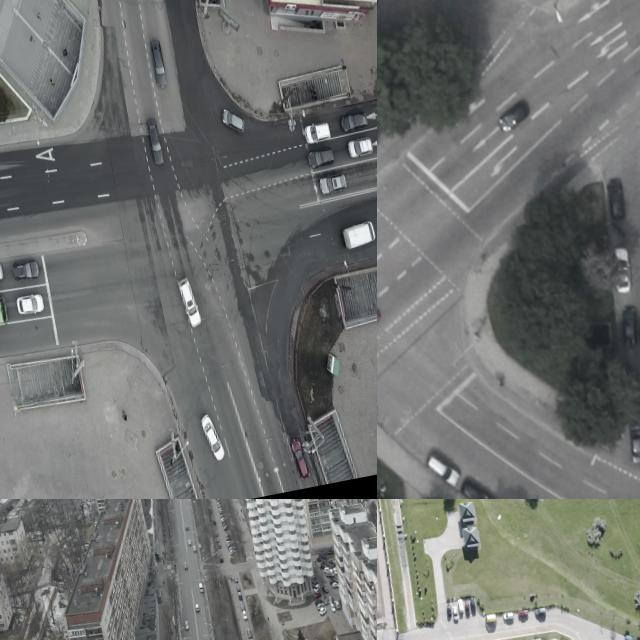UAI: (493, 97, 533, 136), (425, 449, 461, 491), (199, 411, 227, 464), (177, 275, 204, 329), (609, 244, 636, 296), (456, 471, 501, 499), (603, 176, 629, 221), (148, 38, 170, 89), (289, 436, 312, 481), (145, 117, 166, 166), (220, 104, 249, 139), (617, 306, 640, 349), (303, 119, 333, 148), (15, 291, 46, 319), (318, 171, 349, 198), (306, 144, 336, 171), (10, 256, 41, 282), (624, 419, 640, 466), (346, 135, 376, 160), (340, 109, 370, 133), (632, 294, 640, 349), (502, 611, 515, 621), (452, 605, 460, 621), (469, 597, 477, 613), (457, 598, 465, 613), (464, 600, 471, 616), (624, 632, 638, 640), (535, 607, 547, 616), (318, 606, 328, 616), (313, 590, 323, 600), (445, 603, 452, 617), (517, 610, 529, 618), (315, 602, 325, 611), (333, 600, 341, 611), (247, 627, 254, 639), (329, 602, 336, 614), (328, 594, 335, 606), (315, 599, 324, 608), (321, 584, 329, 594), (242, 610, 248, 621), (240, 601, 246, 612), (184, 620, 190, 631), (229, 549, 237, 557), (237, 591, 243, 601), (194, 603, 200, 613), (233, 574, 239, 584), (218, 553, 224, 563), (323, 596, 329, 606), (228, 546, 236, 553), (217, 542, 223, 550), (184, 561, 189, 570), (236, 583, 241, 592), (192, 544, 197, 552), (215, 530, 220, 538), (185, 524, 190, 531), (216, 536, 221, 543), (188, 539, 192, 547), (213, 518, 217, 525)
harvester: (340, 218, 377, 251), (484, 613, 497, 624), (199, 583, 205, 594)
